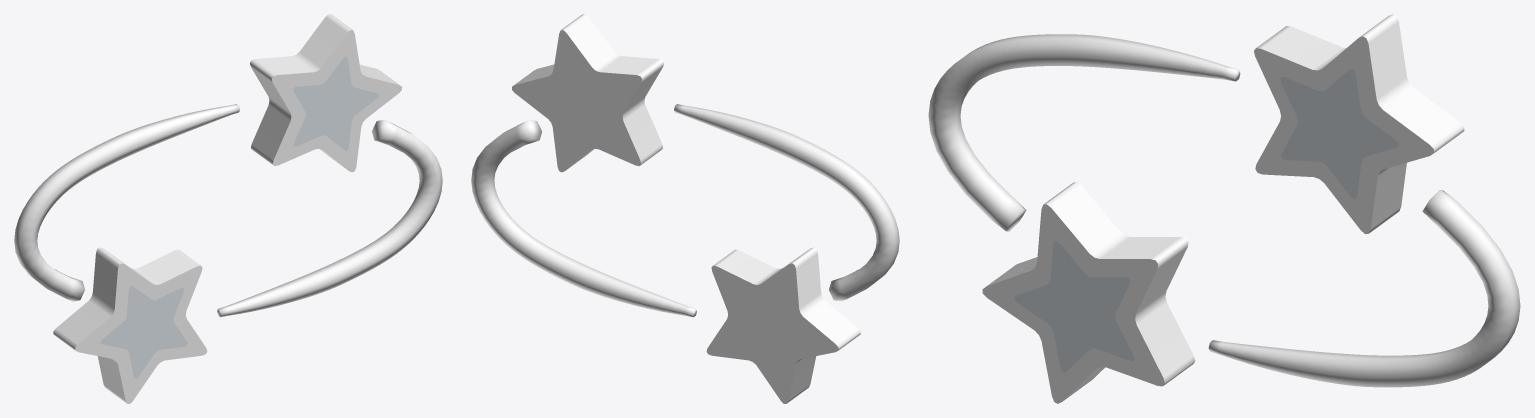
File: DoorObject.fbx
The picture shows the model from 3 angles, left to right: view 1: azimuth 30°, elevation 25°; view 2: azimuth 150°, elevation 25°; view 3: azimuth 330°, elevation 25°; orthographic projection. The views are drawn at different scales.
Visible parts, largest first — view 1: Star, Star.003, NurbsPath.001, NurbsPath, Star.002, Star.004; view 2: Star, Star.003, NurbsPath.001, NurbsPath; view 3: Star, Star.003, NurbsPath, NurbsPath.001, Star.004, Star.002.
Boxes of the visible parts, x1,y1,x2,y2 form: Star: (53,247,207,403); Star.003: (250,14,401,172); NurbsPath.001: (217,119,442,317); NurbsPath: (14,104,239,301); Star.002: (100,286,187,378); Star.004: (293,57,378,150); Star: (706,247,860,403); Star.003: (512,14,663,172); NurbsPath.001: (471,119,696,317); NurbsPath: (674,104,899,301); Star: (982,182,1195,403); Star.003: (1254,14,1464,233); NurbsPath: (928,34,1240,231); NurbsPath.001: (1208,190,1520,387); Star.004: (1280,69,1398,199); Star.002: (1014,241,1134,372).
Bounding box in the file's own units: 466 × 337 × 44.15.
